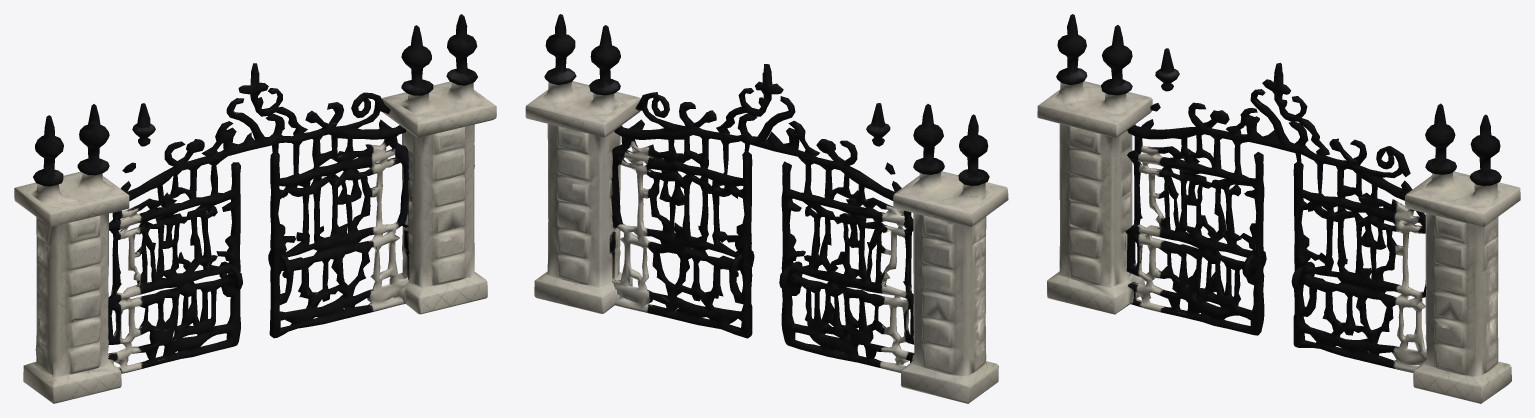
Rendered from manor_gate.glb.
3 renders of one model, left to right at view 1: azimuth 30°, elevation 25°; view 2: azimuth 150°, elevation 25°; view 3: azimuth 330°, elevation 25°, orthographic.
Size of the model in its own units: 1.91 by 1.13 by 0.2779.
1 material, 1 textured.
